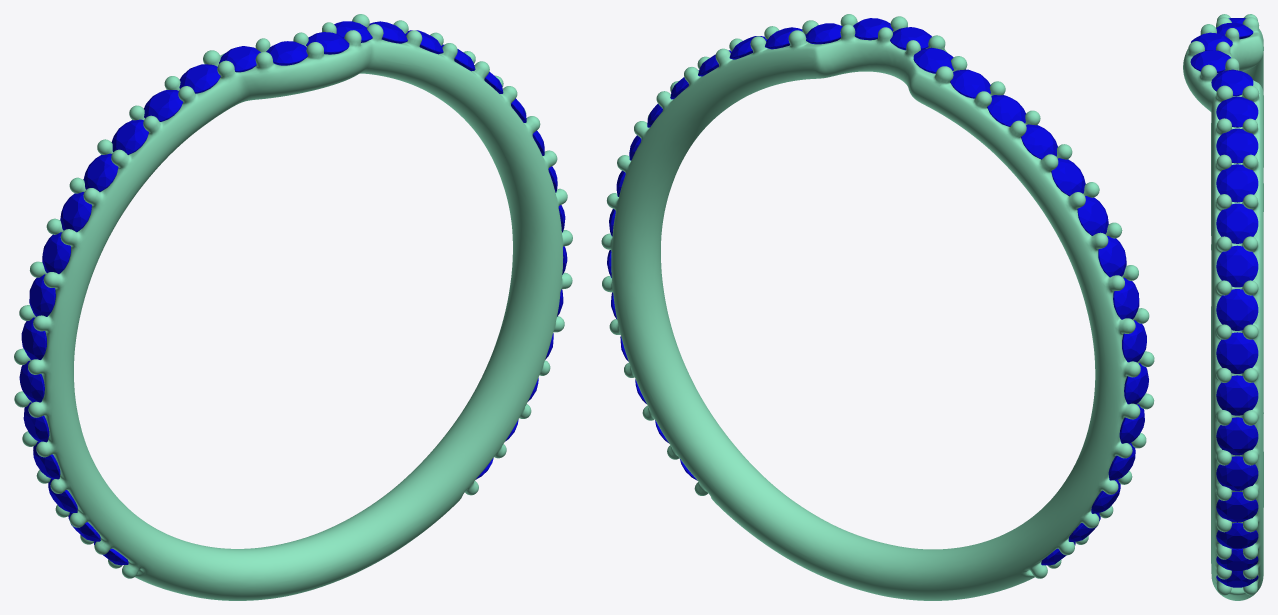
The picture shows the model from 3 angles, left to right: view 1: azimuth 30°, elevation 25°; view 2: azimuth 150°, elevation 25°; view 3: azimuth 270°, elevation 25°; orthographic projection. The views are drawn at different scales.
Parts seen in each view (by area): view 1: Metal03, Diamond_Band.026, Diamond_Band.027, Diamond_Band.025, Diamond_Band.028, Diamond_Band.024, Diamond_Band.029, Diamond_Band.023, Diamond_Band.031, Diamond_Band.022; view 2: Metal03, Diamond_Band.026, Diamond_Band.025, Diamond_Band.027, Diamond_Band.028, Diamond_Band.024, Diamond_Band.029, Diamond_Band.023, Diamond_Band.022, Diamond_Band.030; view 3: Metal03, Diamond_Band.007, Diamond_Band.006, Diamond_Band.008, Diamond_Band.009, Diamond_Band.005, Diamond_Band.004, Diamond_Band.010, Diamond_Band.003, Diamond_Band.011, Diamond_Band.002, Diamond_Band.012 (+7 smaller).
Boxes of the visible parts, x1,y1,x2,y2 form: Metal03: (14, 14, 572, 600); Diamond_Band.026: (83, 153, 118, 191); Diamond_Band.027: (111, 119, 148, 154); Diamond_Band.025: (60, 192, 91, 232); Diamond_Band.028: (144, 90, 183, 121); Diamond_Band.024: (42, 232, 70, 273); Diamond_Band.029: (179, 64, 220, 93); Diamond_Band.023: (29, 274, 55, 316); Diamond_Band.031: (266, 41, 307, 65); Diamond_Band.022: (21, 317, 46, 360); Metal03: (601, 14, 1154, 600); Diamond_Band.026: (1051, 158, 1085, 196); Diamond_Band.025: (1077, 196, 1108, 235); Diamond_Band.027: (1021, 124, 1057, 159); Diamond_Band.028: (987, 95, 1025, 126); Diamond_Band.024: (1098, 236, 1126, 277); Diamond_Band.029: (950, 69, 990, 98); Diamond_Band.023: (1113, 277, 1139, 319); Diamond_Band.022: (1122, 320, 1146, 362); Diamond_Band.030: (913, 47, 953, 73); Metal03: (1183, 14, 1263, 600); Diamond_Band.007: (1216, 289, 1258, 330); Diamond_Band.006: (1216, 245, 1258, 287); Diamond_Band.008: (1216, 332, 1258, 373); Diamond_Band.009: (1216, 375, 1258, 415); Diamond_Band.005: (1216, 203, 1258, 243); Diamond_Band.004: (1216, 164, 1258, 202); Diamond_Band.010: (1216, 417, 1258, 455); Diamond_Band.003: (1216, 128, 1258, 163); Diamond_Band.011: (1216, 456, 1258, 490); Diamond_Band.002: (1216, 96, 1258, 127); Diamond_Band.012: (1216, 491, 1258, 522).
Bounding box in the file's own units: 21.09 × 20.95 × 2.89.
